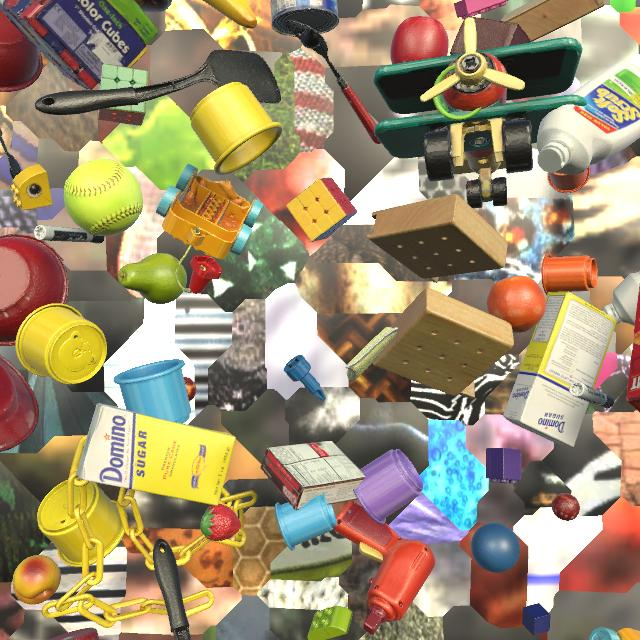ycb_003_cracker_box: (626, 284, 640, 413)
ycb_004_sugar_box: (503, 291, 618, 448), (76, 403, 236, 506)
ycb_007_tuna_fish_can: (270, 0, 339, 37)
ycb_008_pudding_box: (261, 441, 365, 511)
ycb_011_banana: (202, 0, 257, 29)
ycb_012_strawberry: (200, 504, 241, 541)
ycb_013_apple: (390, 16, 449, 64)
ycb_015_peach: (13, 555, 61, 605)
ycb_016_pear: (118, 253, 187, 304)
ycb_017_orange: (487, 275, 546, 333)
